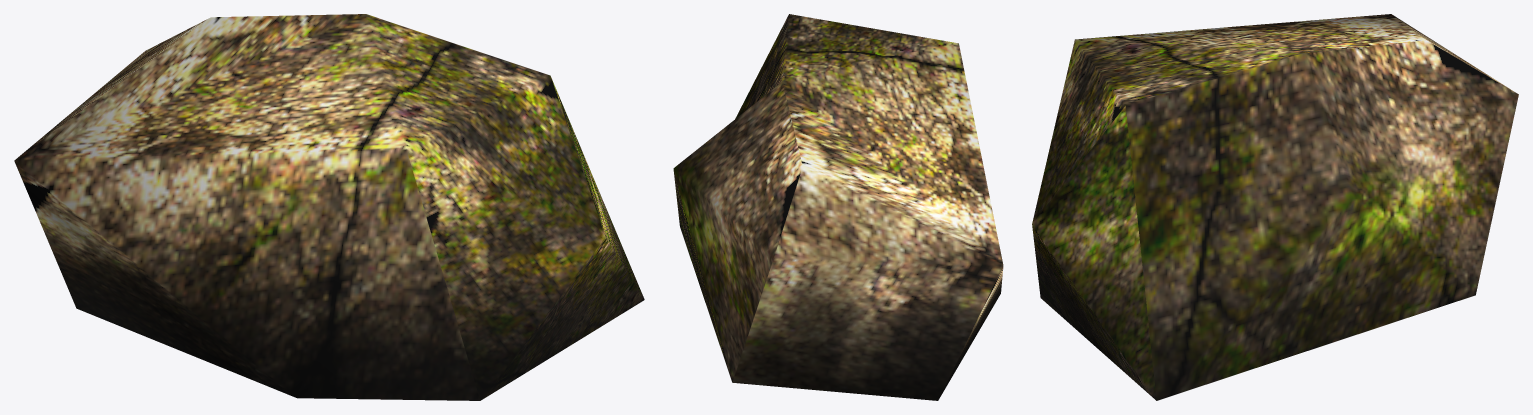
Rendered from rock_013_LOD.obj.
3 renders of one model, left to right at view 1: azimuth 30°, elevation 25°; view 2: azimuth 150°, elevation 25°; view 3: azimuth 270°, elevation 25°, orthographic. The views are drawn at different scales.
Visible parts, largest first — view 1: rock_013_LOD; view 2: rock_013_LOD; view 3: rock_013_LOD.
Part boxes in pixels (left/top/right/bottom): rock_013_LOD: left=14, top=14, right=644, bottom=400; rock_013_LOD: left=673, top=14, right=1003, bottom=400; rock_013_LOD: left=1032, top=14, right=1518, bottom=400.
Bounding box in the file's own units: 246 × 129 × 221.
1 material, 1 textured.
